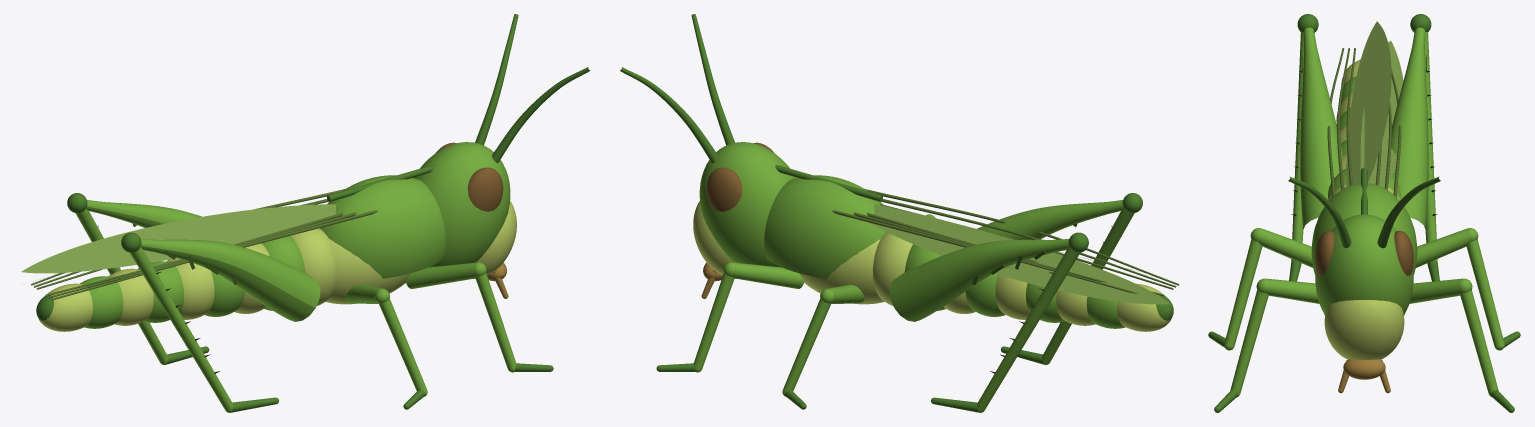
The model's file is belalang.glb.
3 views of the same model, side by side, from view 1: azimuth 30°, elevation 25°; view 2: azimuth 150°, elevation 25°; view 3: azimuth 270°, elevation 25° (orthographic). The views are drawn at different scales.
Visible parts, largest first — view 1: pronotum, forewing_R, head, leg_hind_femur_R, leg_hind_tibia_R, thorax, abdomen_seg_1, abdomen_seg_9, leg_hind_femur_L, abdomen_seg_5, abdomen_seg_7, abdomen_seg_8 (+17 smaller); view 2: pronotum, head, leg_hind_femur_L, forewing_L, leg_hind_femur_R, leg_hind_tibia_L, thorax, abdomen_seg_1, leg_hind_tibia_R, abdomen_seg_9, eye_L, leg_front_femur_L (+17 smaller); view 3: head, leg_hind_femur_R, leg_hind_femur_L, forewing_R, face, pronotum, forewing_L, leg_mid_tibia_L, leg_mid_tibia_R, leg_front_tibia_L, leg_front_tibia_R, leg_hind_tibia_L (+19 smaller).
Boxes of the visible parts, x1,y1,x2,y2 form: pronotum: (319,175,445,278); forewing_R: (21,204,336,273); head: (413,142,510,267); leg_hind_femur_R: (141,239,320,321); leg_hind_tibia_R: (130,247,233,411); thorax: (325,239,410,304); abdomen_seg_1: (290,228,337,305); abdomen_seg_9: (39,283,92,331); leg_hind_femur_L: (86,200,201,227); abdomen_seg_5: (166,258,214,319); abdomen_seg_7: (108,268,153,325); abdomen_seg_8: (80,276,123,328); pronotum: (764,175,885,278); head: (699,142,796,267); leg_hind_femur_L: (889,239,1069,321); forewing_L: (869,204,1169,304); leg_hind_femur_R: (977,200,1123,239); leg_hind_tibia_L: (977,247,1079,411); thorax: (799,239,884,304); abdomen_seg_1: (873,232,912,306); leg_hind_tibia_R: (1042,209,1134,363); abdomen_seg_9: (1117,283,1171,331); eye_L: (707,167,742,211); leg_front_femur_L: (732,262,804,288); head: (1315,214,1413,315); leg_hind_femur_R: (1300,27,1343,229); leg_hind_femur_L: (1391,27,1428,229); forewing_R: (1346,21,1391,186); face: (1324,300,1404,359); pronotum: (1311,183,1417,274); forewing_L: (1360,41,1403,187); leg_mid_tibia_L: (1466,239,1504,346); leg_mid_tibia_R: (1224,239,1262,346); leg_front_tibia_L: (1460,290,1498,394); leg_front_tibia_R: (1230,290,1268,394); leg_hind_tibia_L: (1425,32,1437,261).
Size of the model in its own units: 0.0541 by 0.0257 by 0.0266.
